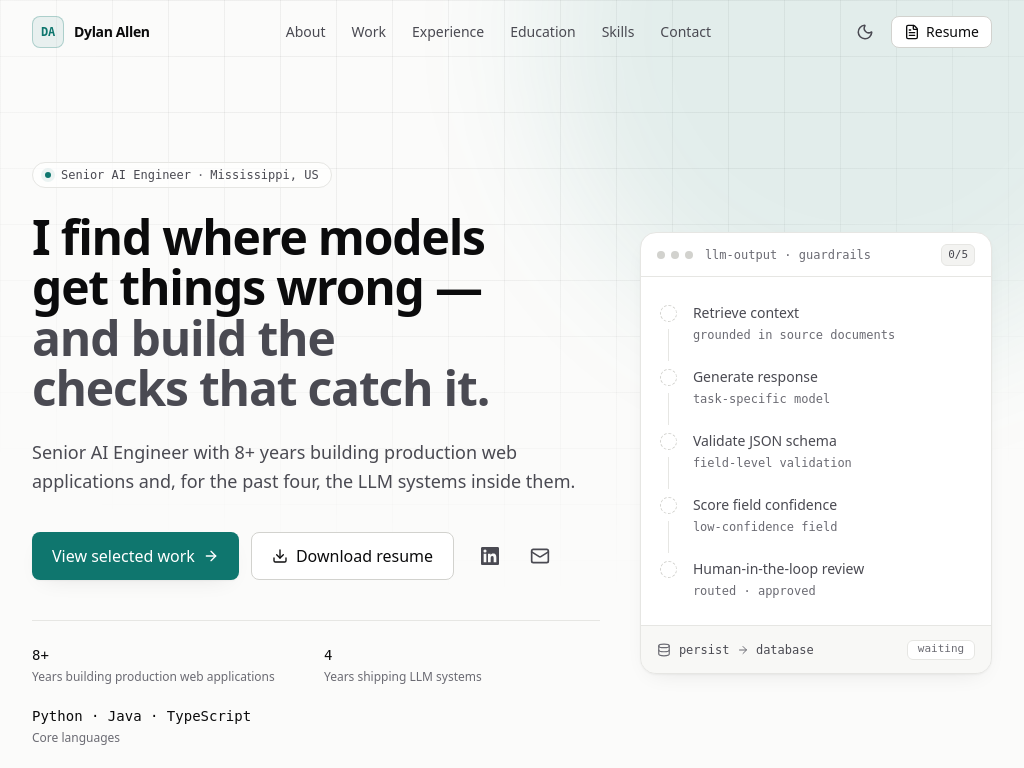
Test: theme toggle › still toggles when storage is unavailable
Click the button named "Switch to dark theme": x=865, y=32 847,14 -> 883,50
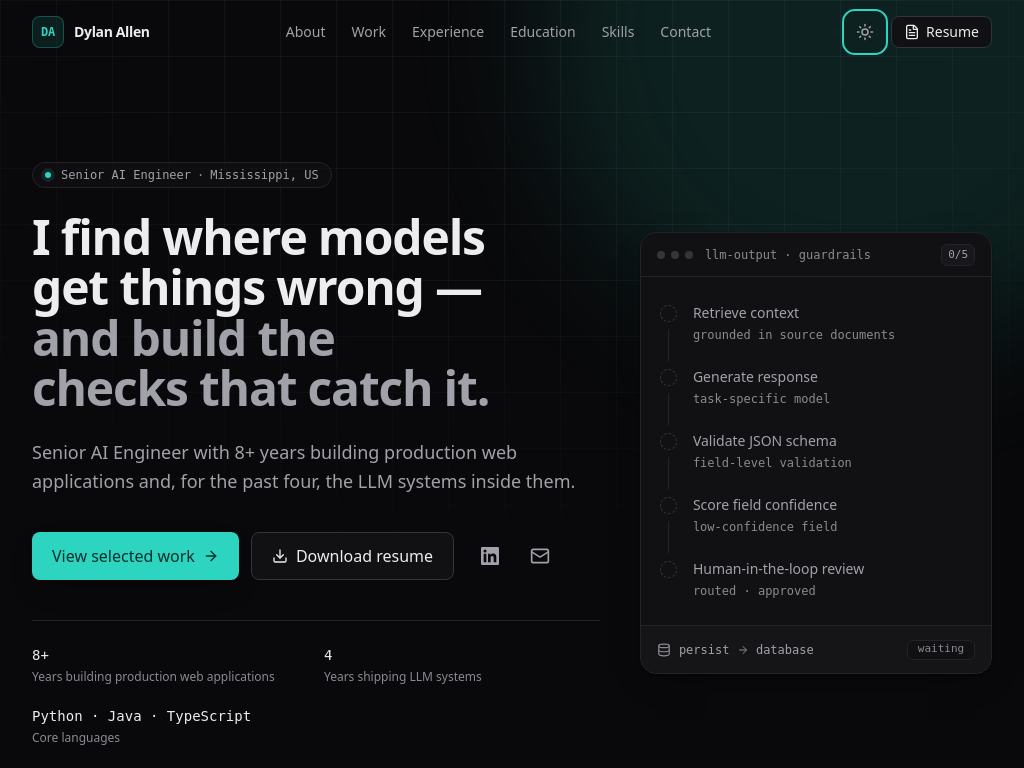
Check: the button named "Switch to light theme" is shown, box 847,14 -> 883,50
